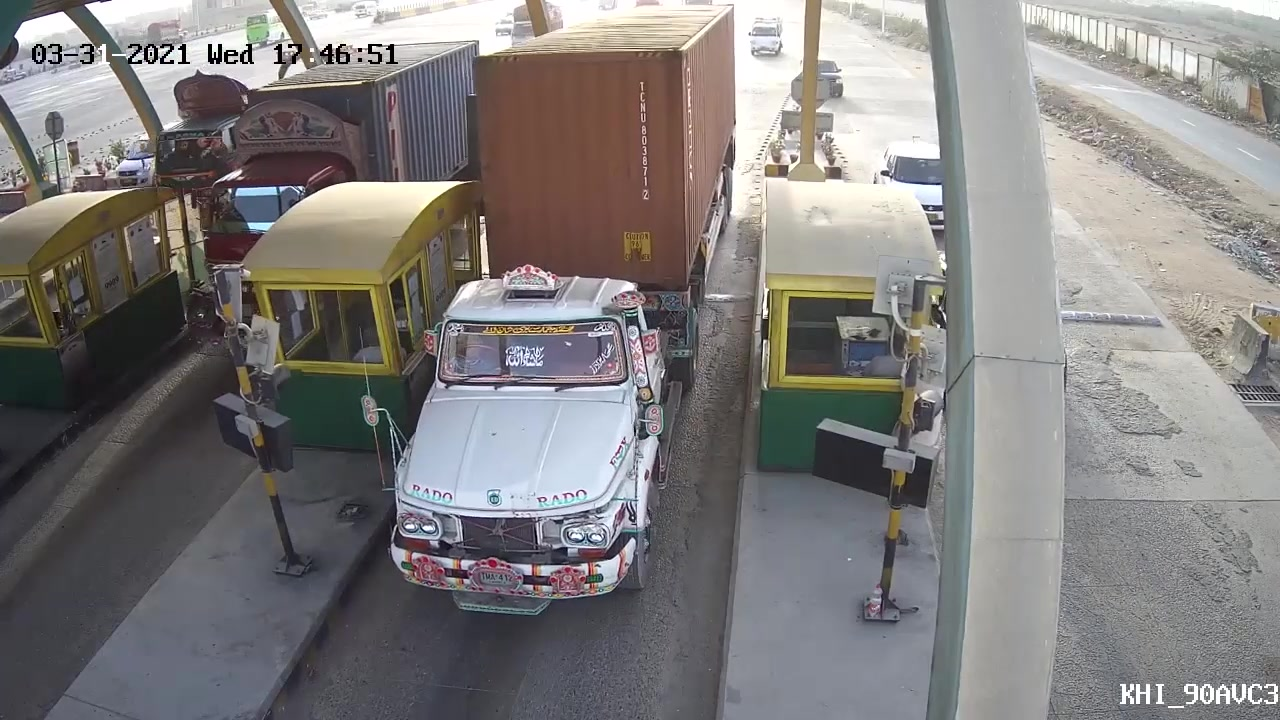F6: (396, 1, 751, 635)
